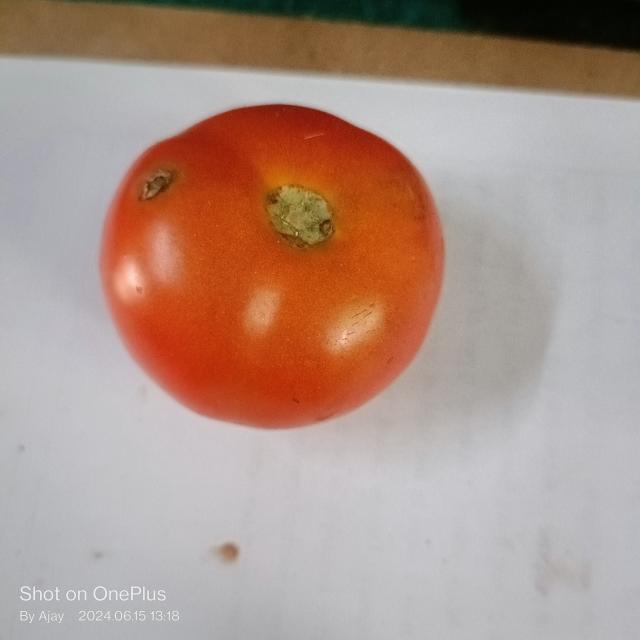Bacterial_Spot: (138, 162, 175, 208)
